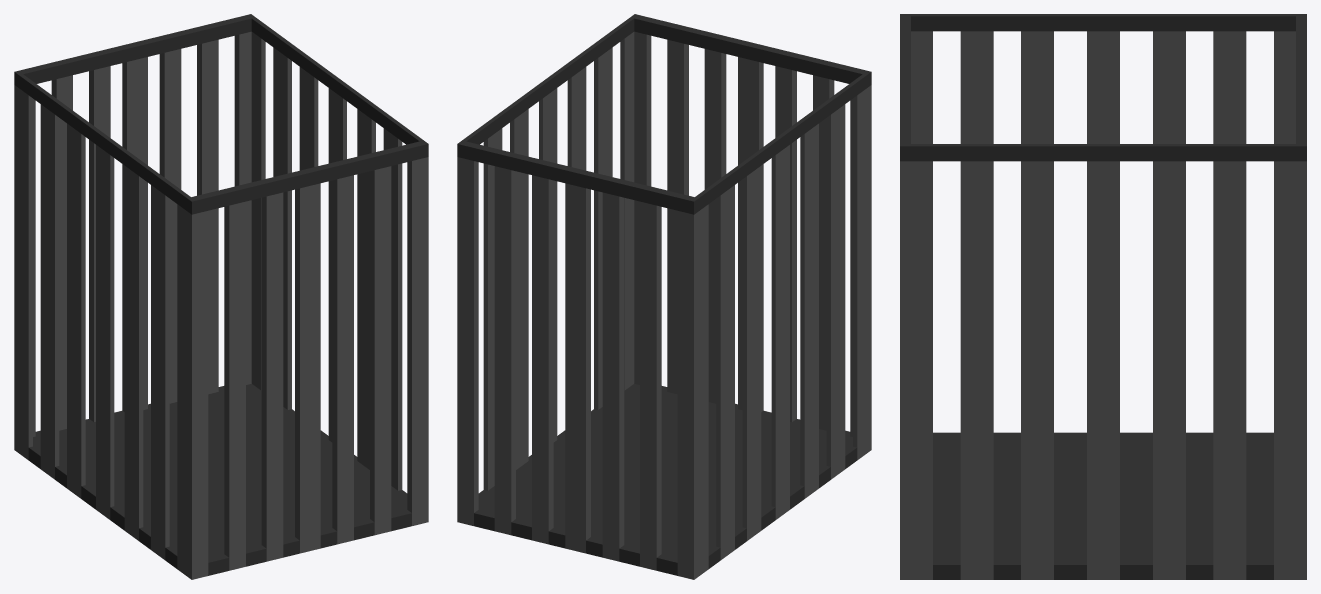
The model's file is cage_1-1.obj.
3 views of the same model, side by side, from view 1: azimuth 30°, elevation 25°; view 2: azimuth 150°, elevation 25°; view 3: azimuth 270°, elevation 25° (orthographic). The views are drawn at different scales.
Size of the model in its own units: 5.7 by 8.7 by 7.4.
